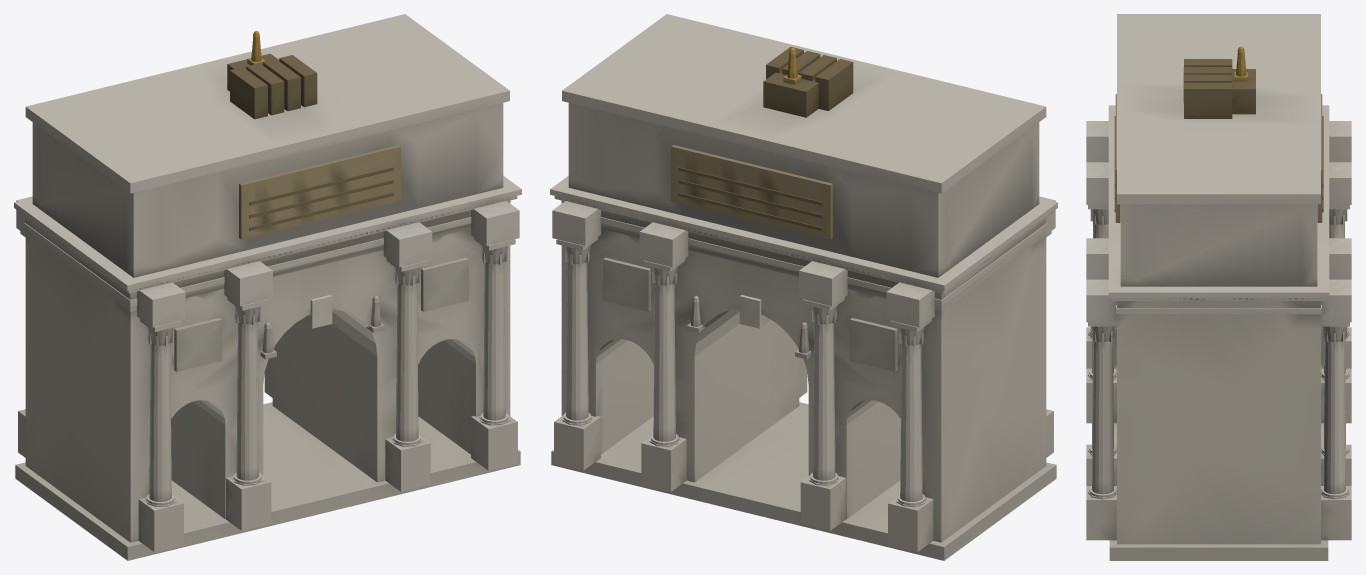
The model's file is arch-of-septimius-severus.glb.
The picture shows the model from 3 angles, left to right: view 1: azimuth 30°, elevation 25°; view 2: azimuth 150°, elevation 25°; view 3: azimuth 270°, elevation 25°; orthographic projection. The views are drawn at different scales.
Parts seen in each view (by area): view 1: p2_attic, p0_body, p1_columns; view 2: p2_attic, p0_body, p1_columns; view 3: p2_attic, p0_body, p1_columns.
Boxes of the visible parts, x1,y1,x2,y2 form: p2_attic: [14, 14, 521, 311]; p0_body: [15, 201, 520, 560]; p1_columns: [16, 196, 519, 551]; p2_attic: [550, 14, 1057, 311]; p0_body: [551, 201, 1056, 560]; p1_columns: [552, 196, 1055, 551]; p2_attic: [1108, 14, 1329, 314]; p0_body: [1109, 301, 1328, 560]; p1_columns: [1086, 121, 1351, 540].
Size of the model in its own units: 23.9 by 25.05 by 14.3.
